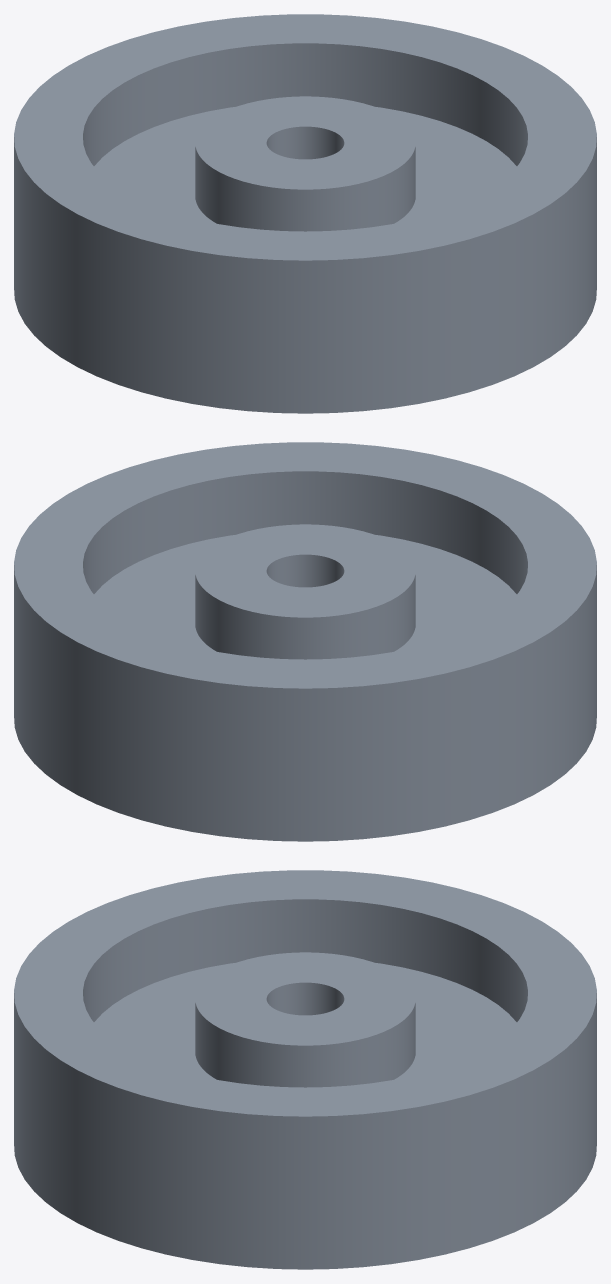
The model's file is step_01.glb.
The picture shows the model from 3 angles, top to bottom: view 1: azimuth 30°, elevation 25°; view 2: azimuth 150°, elevation 25°; view 3: azimuth 270°, elevation 25°; orthographic projection.
Parts seen in each view (by area): view 1: part__V-belt pulley; view 2: part__V-belt pulley; view 3: part__V-belt pulley.
Boxes of the visible parts, x1=… form: part__V-belt pulley: x1=14, y1=14, x2=596, y2=413; part__V-belt pulley: x1=14, y1=442, x2=596, y2=841; part__V-belt pulley: x1=14, y1=870, x2=596, y2=1269.
Bounding box in the file's own units: 143 × 41.4 × 143.
